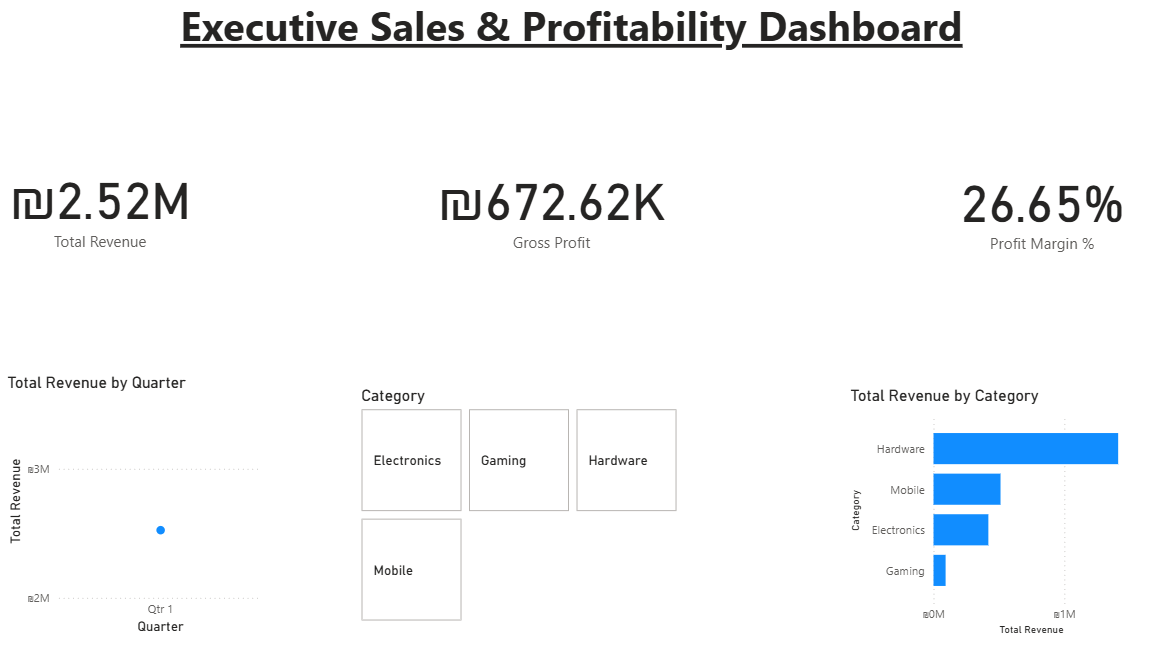

This screenshot's page, from the dashboard's own definition file:
{"tool":"powerbi","page":{"name":"Page 1","canvas":[1280,720],"ordinal":0},"visuals":[{"type":"card","fields":{"Values":["_Measures.Total Revenue"]},"box":[0,96.4,279.7,279.7],"z":0},{"type":"card","fields":{"Values":["_Measures.Gross Profit"]},"box":[478.1,96.4,279.7,281.6],"z":1000},{"type":"card","fields":{"Values":["_Measures.Profit Margin %"]},"box":[999.7,98.3,279.7,281.6],"z":2000},{"type":"lineChart","fields":{"Category":["Fact_Sales.Order_Date.Variation.Date Hierarchy.Quarter","Fact_Sales.Order_Date.Variation.Date Hierarchy.Month","Fact_Sales.Order_Date.Variation.Date Hierarchy.Day"],"Y":["_Measures.Total Revenue"]},"box":[35.9,415.8,279.7,281.6],"z":3000},{"type":"clusteredBarChart","fields":{"Category":["Dim_Products.Category"],"Y":["_Measures.Total Revenue"]},"box":[929.8,429,323.2,268.3],"z":4000},{"type":"advancedSlicerVisual","fields":{"Values":["Dim_Products.Category"]},"box":[412,429,345.8,255.1],"z":5000},{"type":"textbox","box":[139.8,13.2,999.7,126.6],"z":6000}]}

Visuals, with their boxes in screenshot pixels (x1, y1, x2, y2), scaled from the page's 1280x720 canvas onto the 1160x651 screenshot:
card - _Measures.Total Revenue: box=[0, 87, 253, 340]
card - _Measures.Gross Profit: box=[433, 87, 687, 342]
card - _Measures.Profit Margin %: box=[906, 89, 1159, 343]
lineChart - Fact_Sales.Order_Date.Variation.Date Hierarchy.Quarter x Fact_Sales.Order_Date.Variation.Date Hierarchy.Month: box=[33, 376, 286, 631]
clusteredBarChart - Dim_Products.Category x _Measures.Total Revenue: box=[843, 388, 1136, 630]
advancedSlicerVisual - Dim_Products.Category: box=[373, 388, 687, 619]
textbox: box=[127, 12, 1033, 126]
